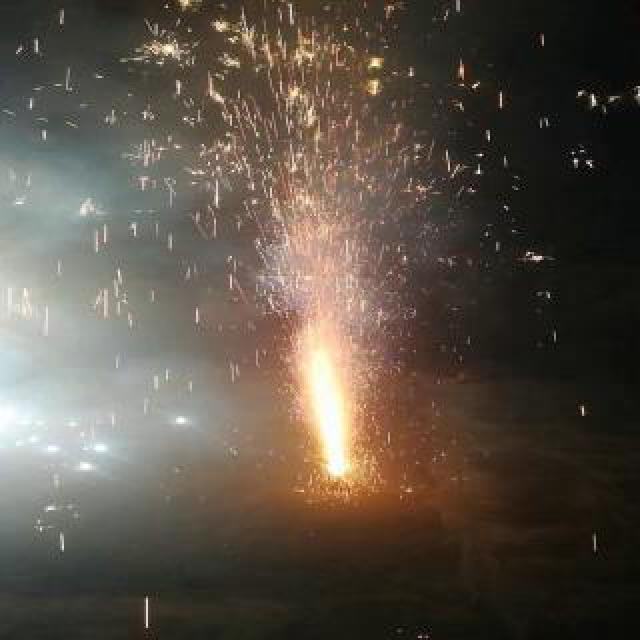Fire: (50, 0, 520, 522)
